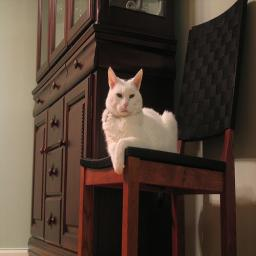catnose: (123, 102, 128, 108)
